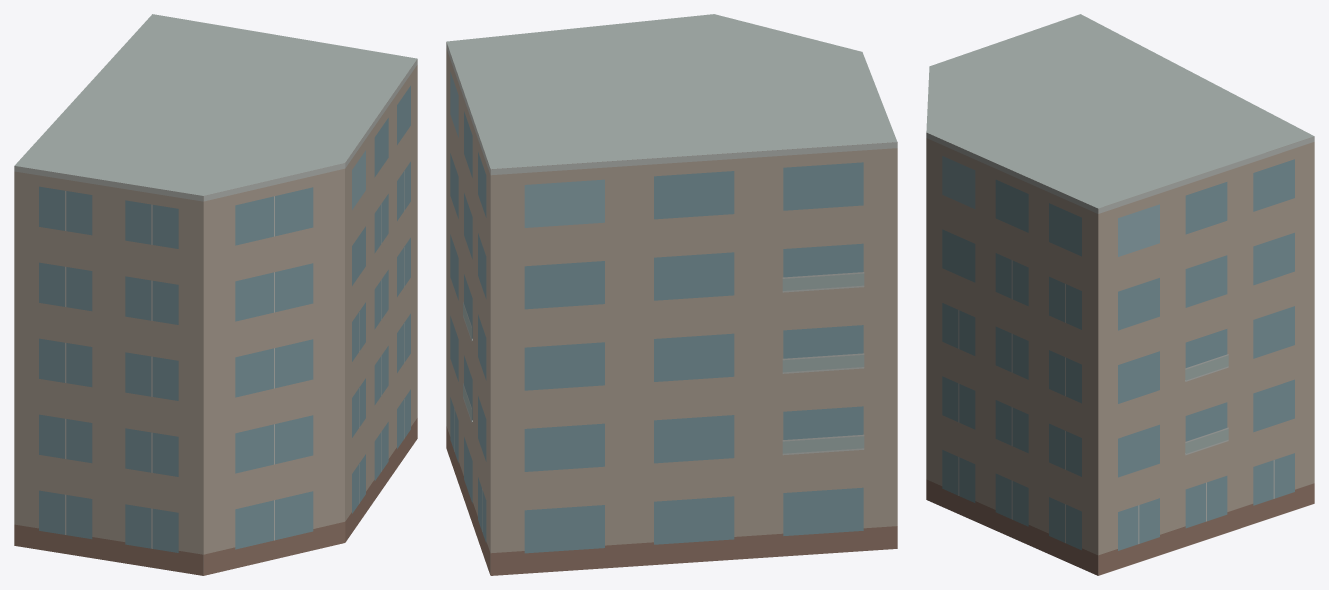
Rendered from survey-upis-32866270.glb.
3 renders of one model, left to right at view 1: azimuth 30°, elevation 25°; view 2: azimuth 150°, elevation 25°; view 3: azimuth 270°, elevation 25°, orthographic. The views are drawn at different scales.
Visible parts, largest first — view 1: survey-upis-32866270.tmp; view 2: survey-upis-32866270.tmp; view 3: survey-upis-32866270.tmp.
Part boxes in pixels (x1,y1,x2,y2): survey-upis-32866270.tmp: (14, 14, 417, 575); survey-upis-32866270.tmp: (446, 14, 897, 575); survey-upis-32866270.tmp: (926, 14, 1314, 575).
Size of the model in its own units: 18.64 by 16.4 by 15.72.
